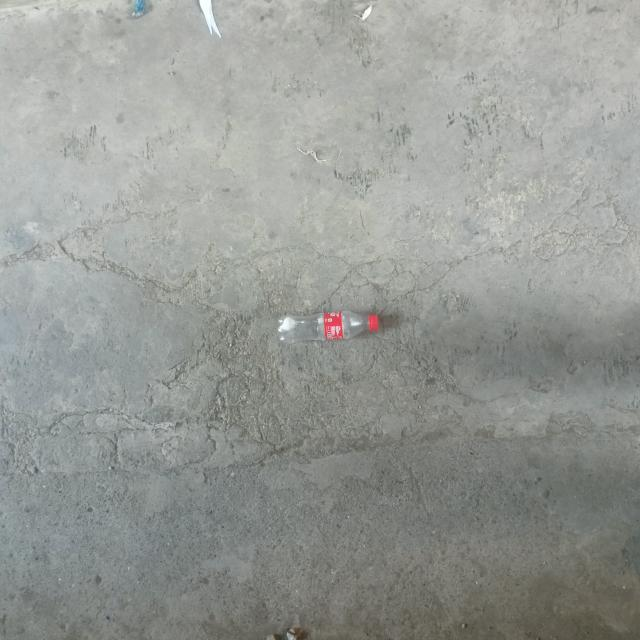Bottle: (278, 311, 379, 343)
